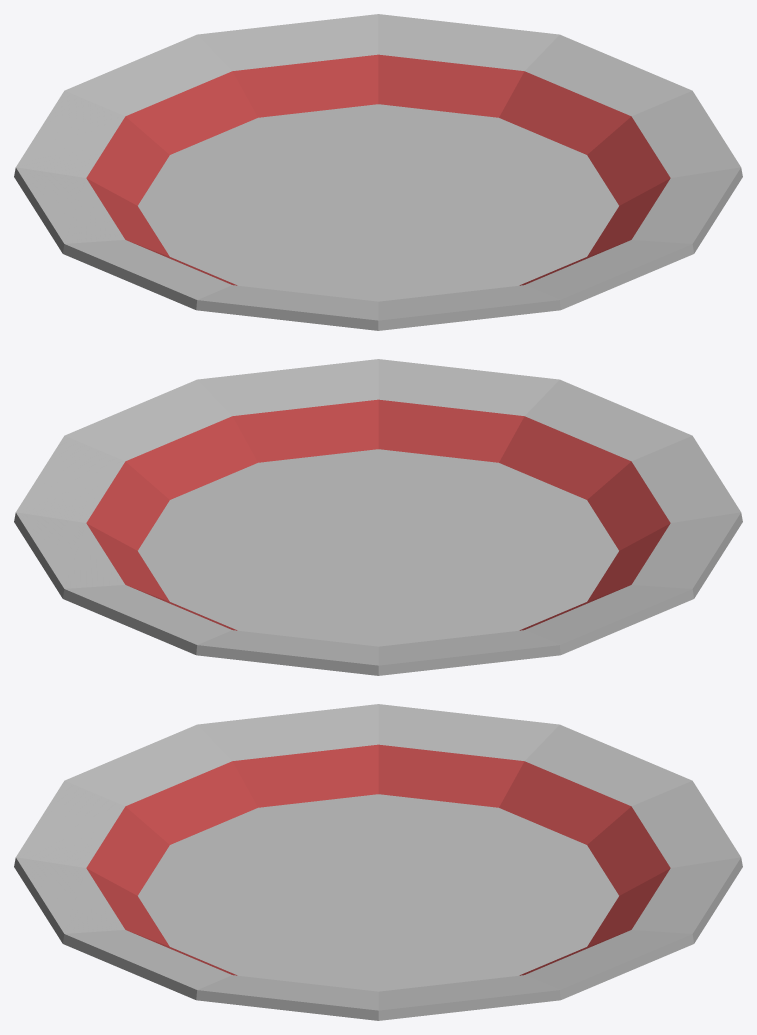
File: Default_Plate.glb
3 views of the same model, one above another, from view 1: azimuth 30°, elevation 25°; view 2: azimuth 150°, elevation 25°; view 3: azimuth 270°, elevation 25° (orthographic).
Visible parts, largest first — view 1: Plate_Default; view 2: Plate_Default; view 3: Plate_Default.
Part boxes in pixels (x1=…): Plate_Default: x1=14, y1=14, x2=742, y2=330; Plate_Default: x1=14, y1=359, x2=742, y2=675; Plate_Default: x1=14, y1=704, x2=742, y2=1020.
Size of what is drawn, in the model's own units: 0.3484 by 0.0253 by 0.3484.
